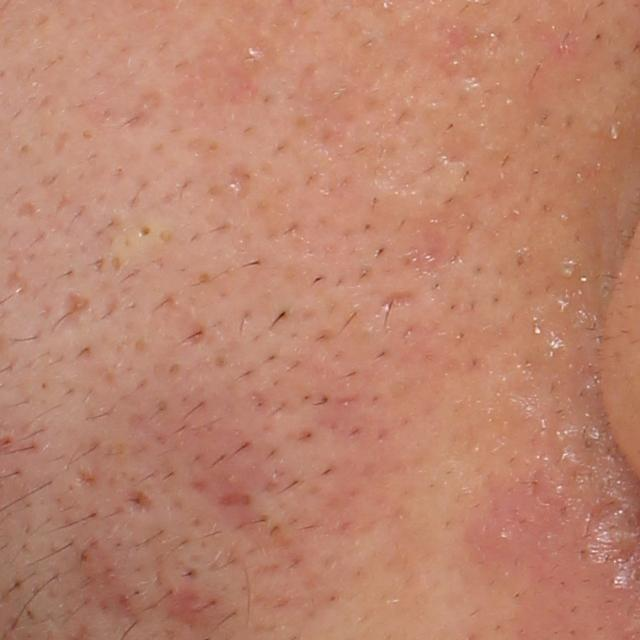atrophic_scar: (406, 191, 475, 272), (160, 585, 214, 630), (435, 117, 484, 166), (127, 87, 166, 127), (62, 290, 97, 325), (225, 163, 256, 201), (375, 289, 417, 313), (119, 488, 154, 516), (217, 491, 252, 508)
